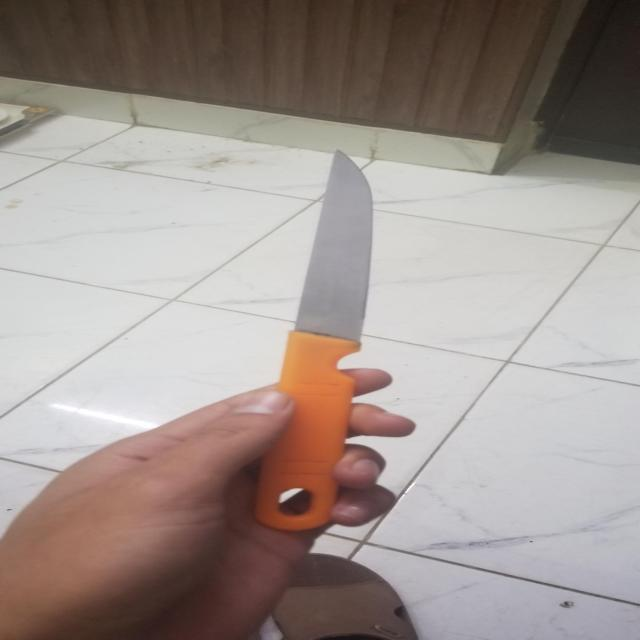faca: (253, 149, 376, 531)
